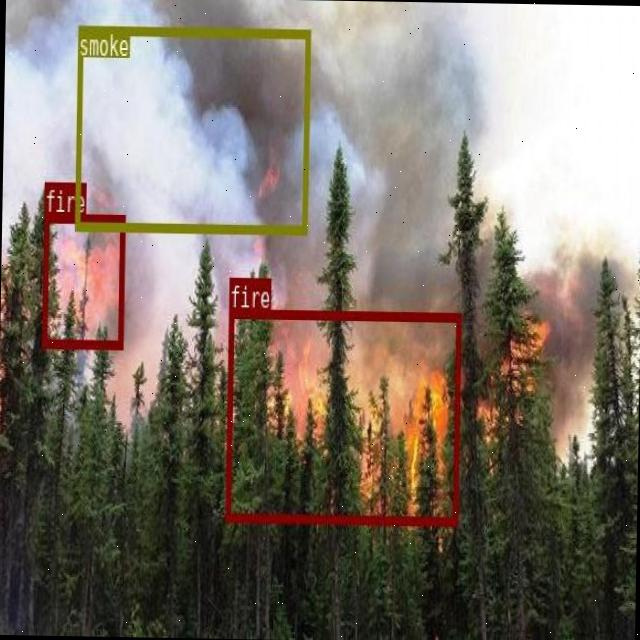fire: (224, 307, 460, 524), (42, 214, 124, 346)
smoke: (73, 25, 310, 232)
